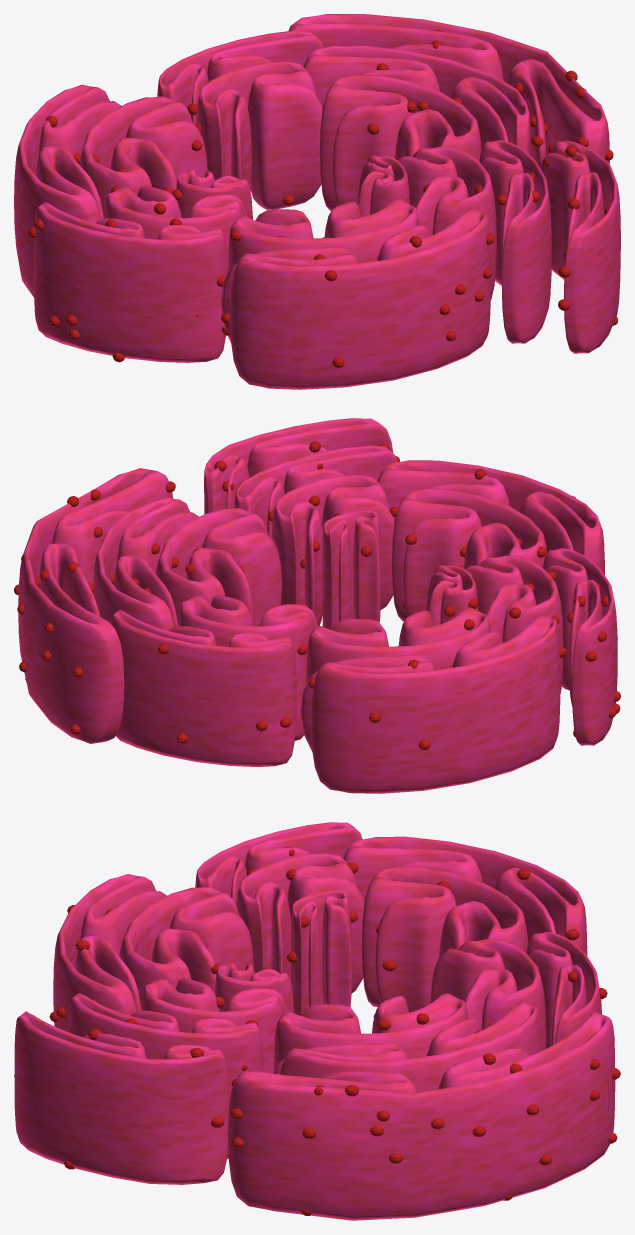
The model's file is endoplasmic_reticulum-transformed.glb.
3 views of the same model, one above another, from view 1: azimuth 30°, elevation 25°; view 2: azimuth 150°, elevation 25°; view 3: azimuth 270°, elevation 25° (orthographic). The views are drawn at different scales.
Visible parts, largest first — view 1: ER-material, ribosomes-material; view 2: ER-material, ribosomes-material; view 3: ER-material, ribosomes-material (×2).
Boxes of the visible parts, x1,y1,x2,y2 form: ER-material: (14,14,620,389); ribosomes-material: (28,30,618,368); ER-material: (18,418,617,793); ribosomes-material: (36,441,620,783); ER-material: (14,822,615,1220); ribosomes-material (×2): (14,846,620,1215).
Bounding box in the file's own units: 8.9 × 2.03 × 8.17.
Materials: 2 (1 with a texture image).
